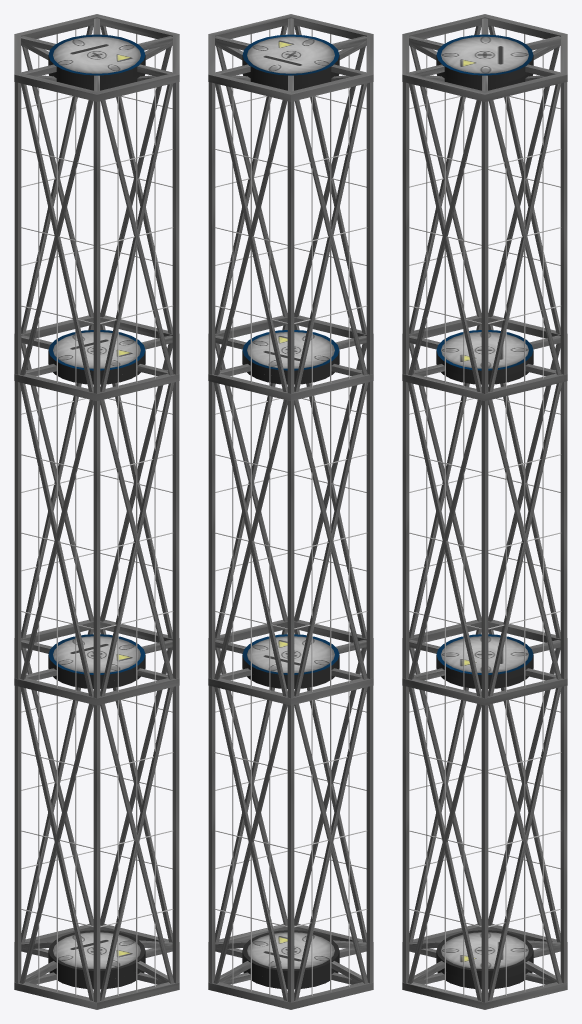
The model's file is TrippleHexTruss.FBX.
3 renders of one model, left to right at view 1: azimuth 30°, elevation 25°; view 2: azimuth 150°, elevation 25°; view 3: azimuth 270°, elevation 25°, orthographic.
Visible parts, largest first — view 1: Pole003, EndCap007, EndCap012, EndCap022, EndBeam009, EndCap023, EndBeam005, Pole016, Pole012, Pole015, Pole011, Pole018 (+58 smaller); view 2: Pole003, EndCap007, EndCap012, EndCap022, EndBeam009, EndCap023, EndBeam005, EndBeam004, Pole013, Pole004, Pole014, Pole005 (+57 smaller); view 3: Pole006, EndCap007, EndCap012, EndCap022, EndBeam009, EndCap023, EndBeam005, EndBeam004, Pole015, Pole014, Pole011, Pole005 (+56 smaller).
Boxes of the visible parts, x1,y1,x2,y2 form: Pole003: (14,82,21,983); EndCap007: (48,34,145,84); EndCap012: (48,930,145,979); EndCap022: (48,634,145,681); EndBeam009: (14,620,179,705); EndCap023: (48,330,145,377); EndBeam005: (14,315,179,400); Pole016: (93,705,100,1002); Pole012: (93,400,100,698); Pole015: (172,685,179,983); Pole011: (172,381,179,678); Pole018: (93,101,100,393); Pole003: (366,82,373,983); EndCap007: (242,34,339,84); EndCap012: (242,930,339,979); EndCap022: (242,634,339,681); EndBeam009: (208,620,373,705); EndCap023: (242,330,339,377); EndBeam005: (208,315,373,400); EndBeam004: (208,14,373,101); Pole013: (287,705,294,1002); Pole004: (287,400,294,698); Pole014: (208,685,215,983); Pole005: (208,381,215,678); Pole006: (481,101,488,1002); EndCap007: (436,34,533,84); EndCap012: (436,930,533,979); EndCap022: (436,634,533,681); EndBeam009: (402,620,567,705); EndCap023: (436,330,533,377); EndBeam005: (402,315,567,400); EndBeam004: (402,14,567,101); Pole015: (402,685,409,983); Pole014: (560,685,567,983); Pole011: (402,381,409,678); Pole005: (560,381,567,678).
Size of what is drawn, in the model's own units: 2.46 by 2.13 by 13.01.
1 material, 1 textured.
